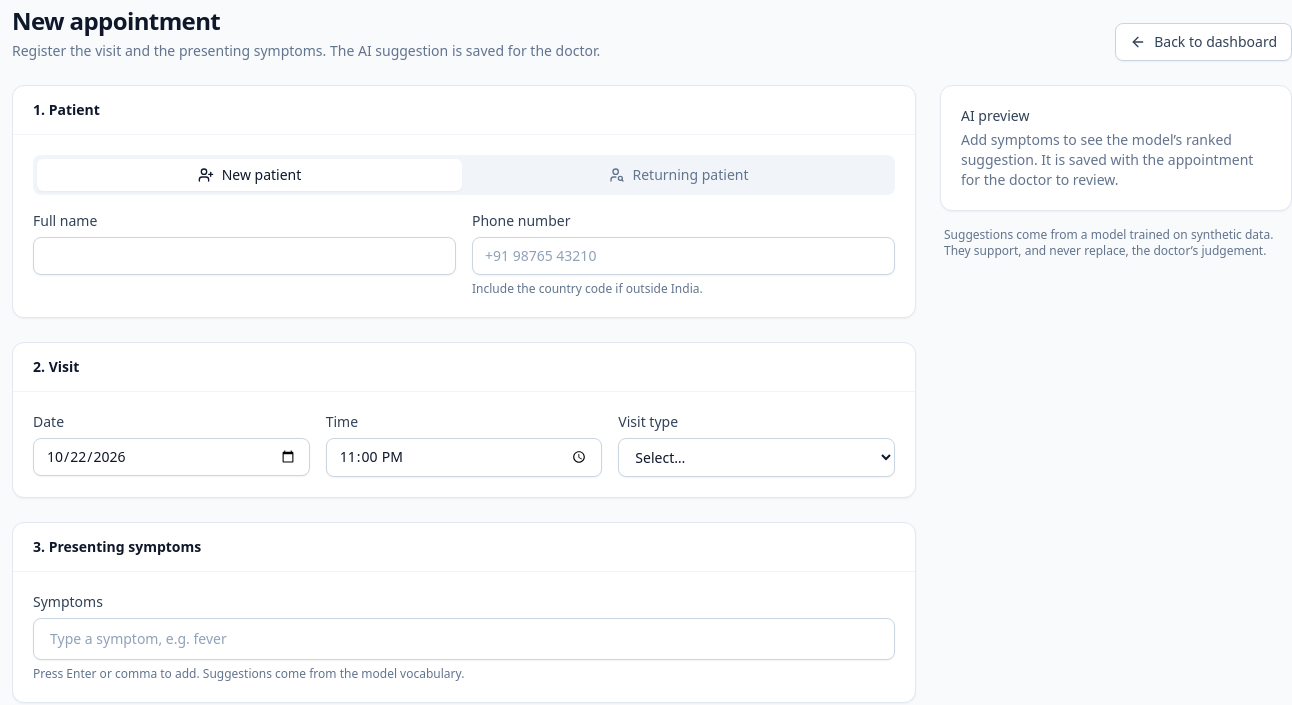
Test: New appointment flow › previews the AI suggestion, books, and shows the patient record
expect the text "Add symptoms to see" is shown: met, box [961,130,1253,189]
In the field labelled "Full name": (244, 256) [33,237,456,275], type "Riya Kapoor"
In the field labelled "Phone number": (684, 256) [472,237,895,275], type "+91 99887 76655"
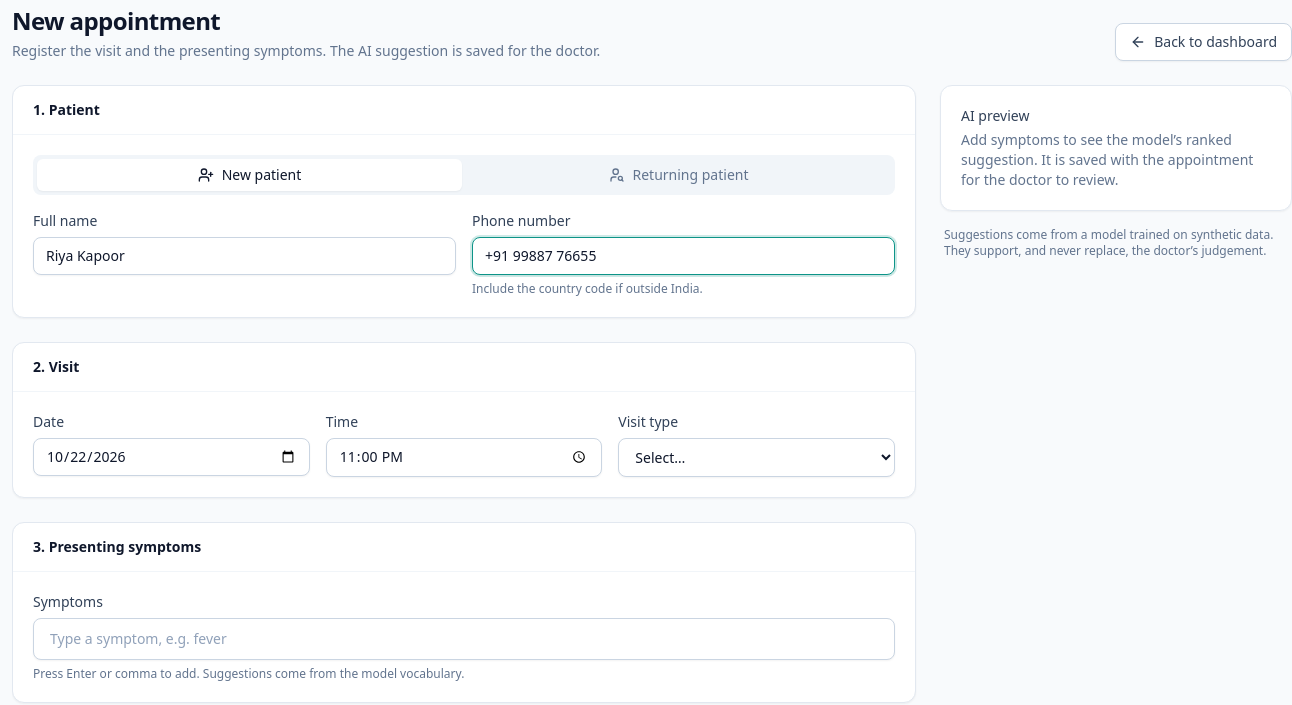
Select "Consultation" in the dropdown labelled "Visit type": (757, 458) [618,438,895,477]
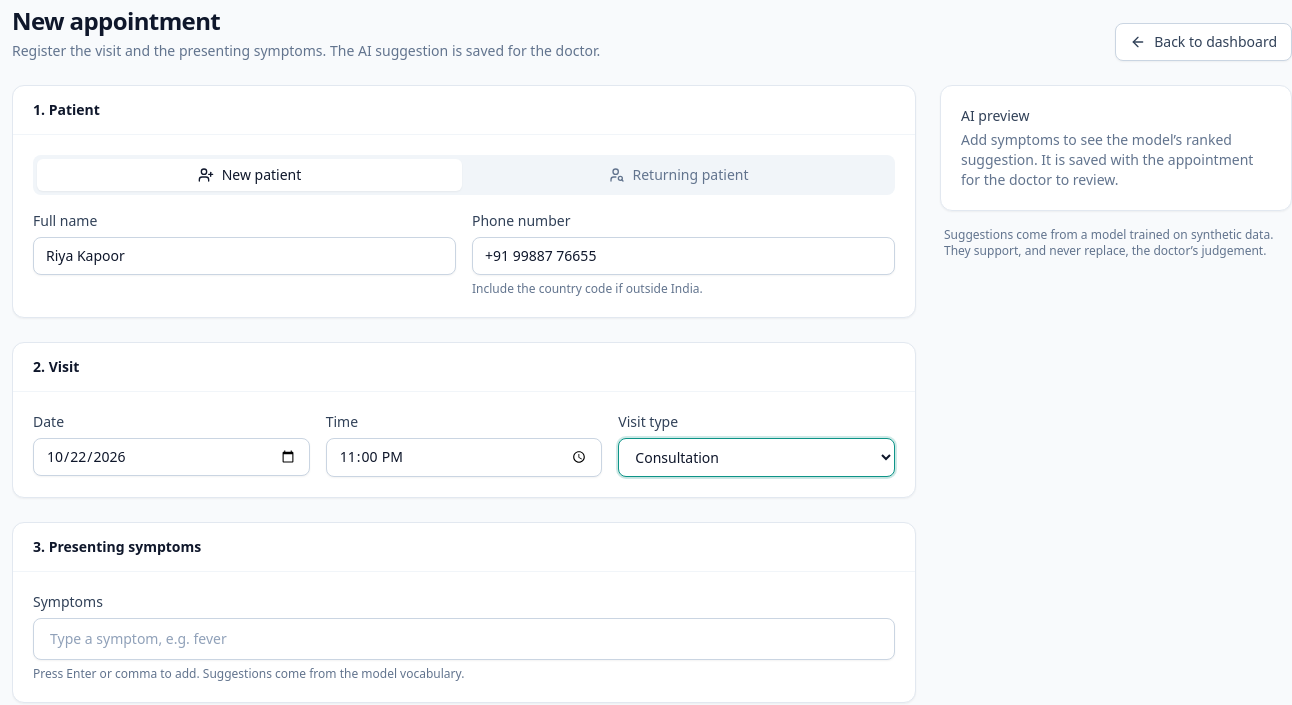
In the dropdown labelled "Symptoms": (464, 639) [46,625,882,653], type "fever"
Then press Enter
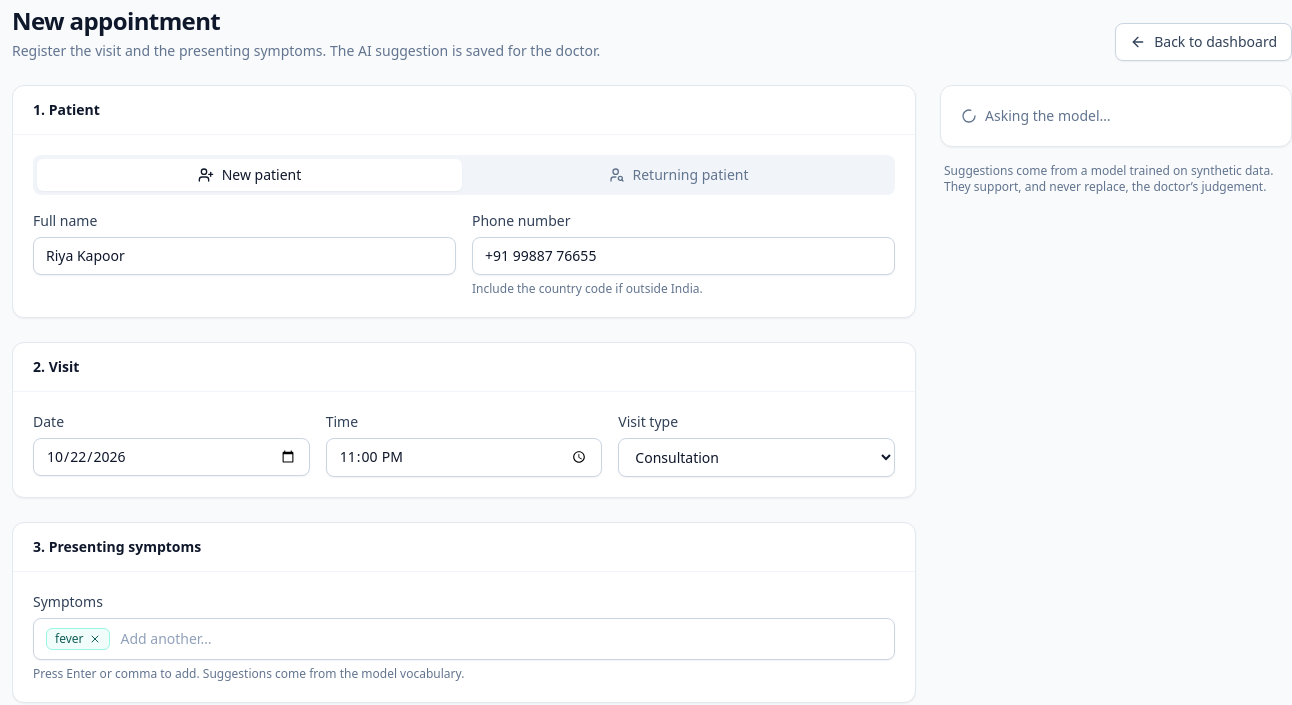
In the dropdown labelled "Symptoms": (499, 639) [116,625,882,653], type "chills"
Then press Enter
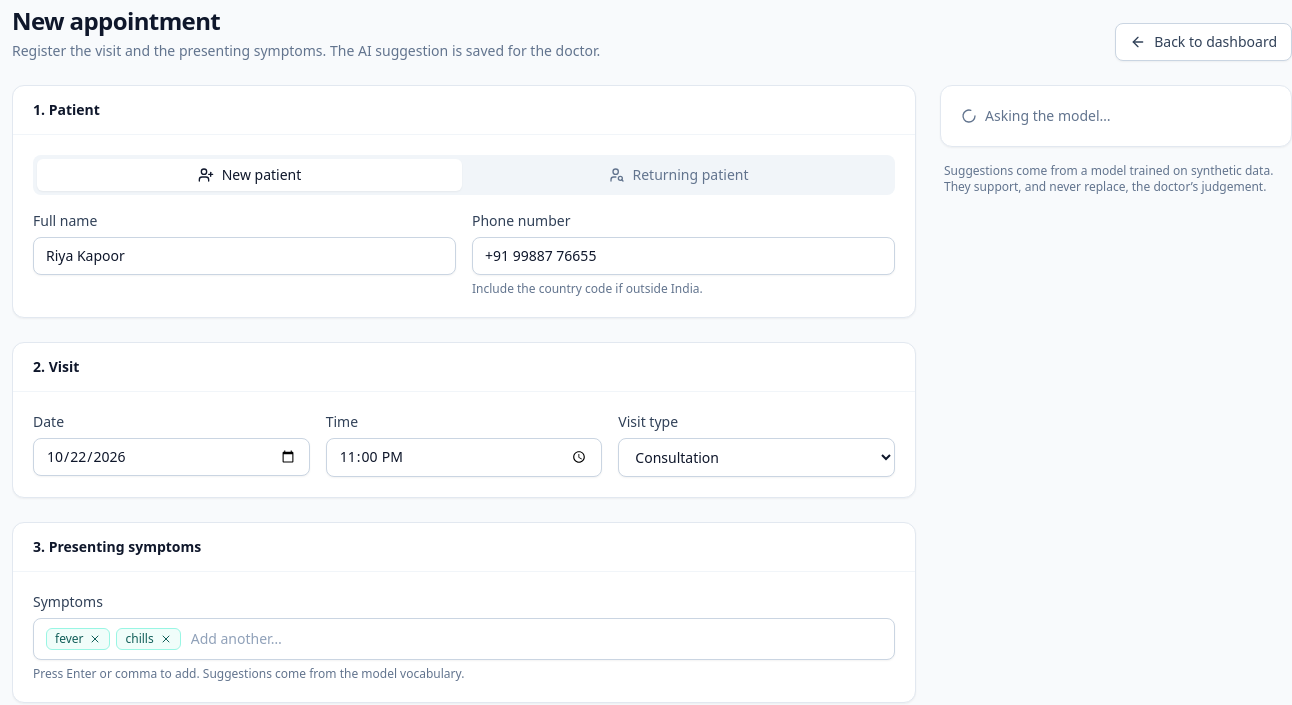
In the dropdown labelled "Symptoms": (534, 639) [187,625,882,653], type "vomit"
Then press Enter
(page scrolled)
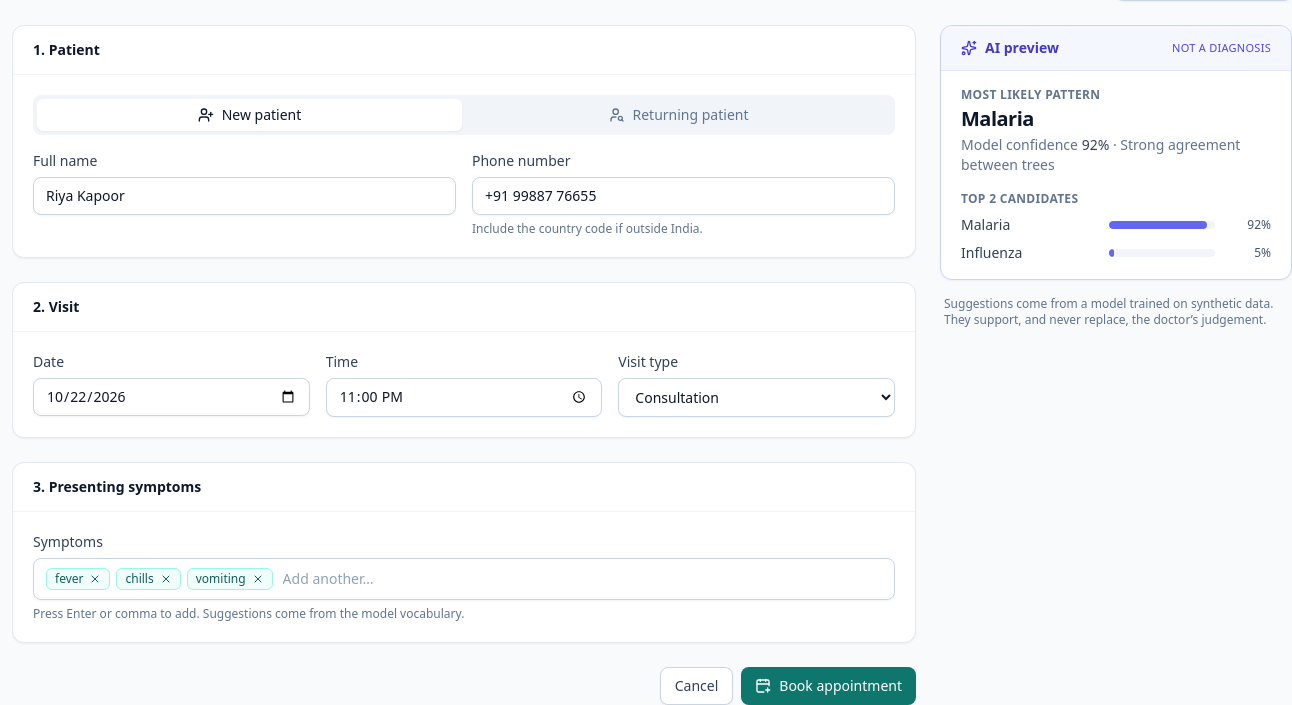
expect the text "Malaria" below "Most likely pattern" is shown: met, box [961,105,1034,132]
Click the button "Book appointment": click(829, 686) [741,667,916,704]
(page scrolled)
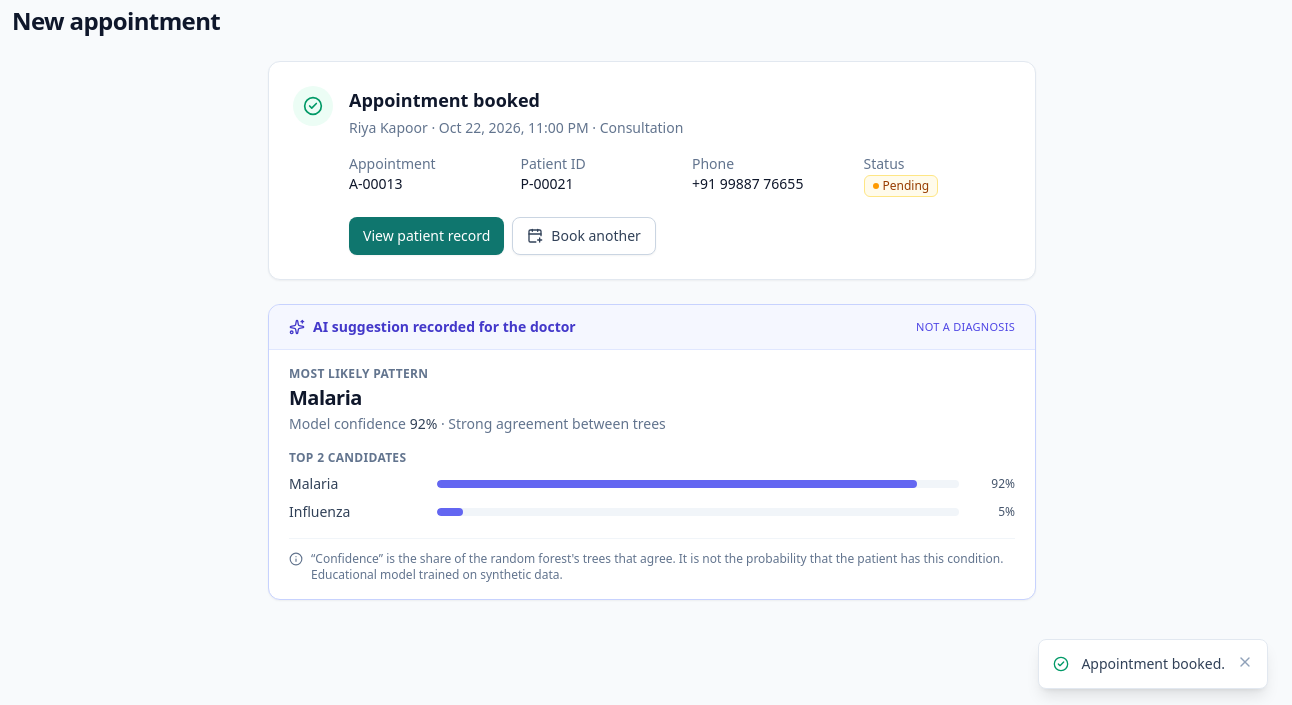
expect the heading "Appointment booked" is shown: met, box [349,88,540,112]
